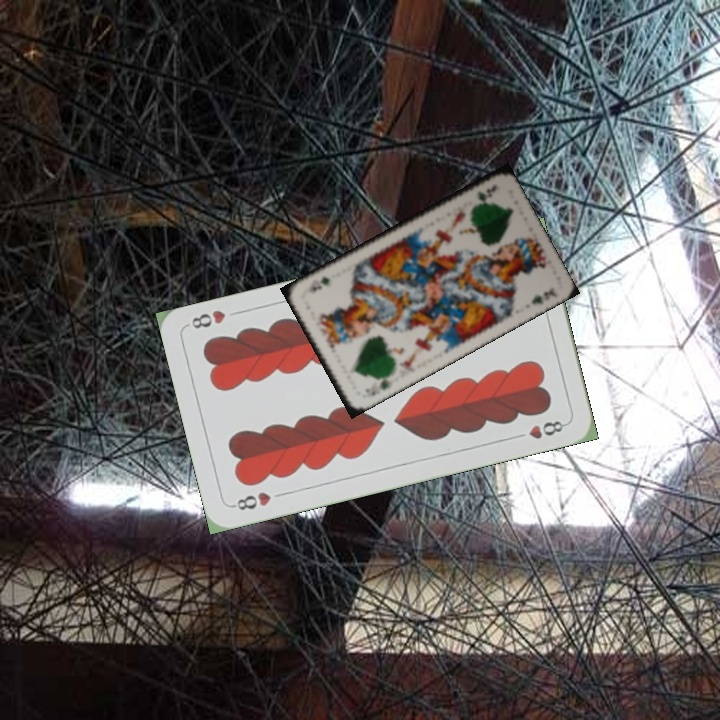GK: (369, 371, 394, 398), (473, 180, 500, 203)
H8: (228, 488, 274, 513)
